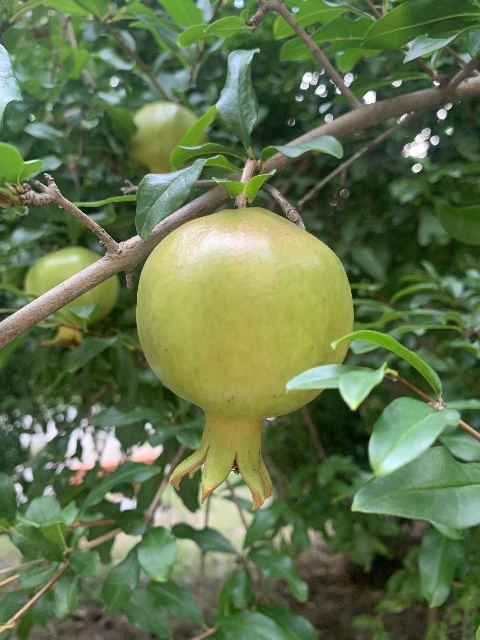mid-growth: (136, 201, 356, 513), (25, 245, 119, 350), (127, 102, 209, 175)
